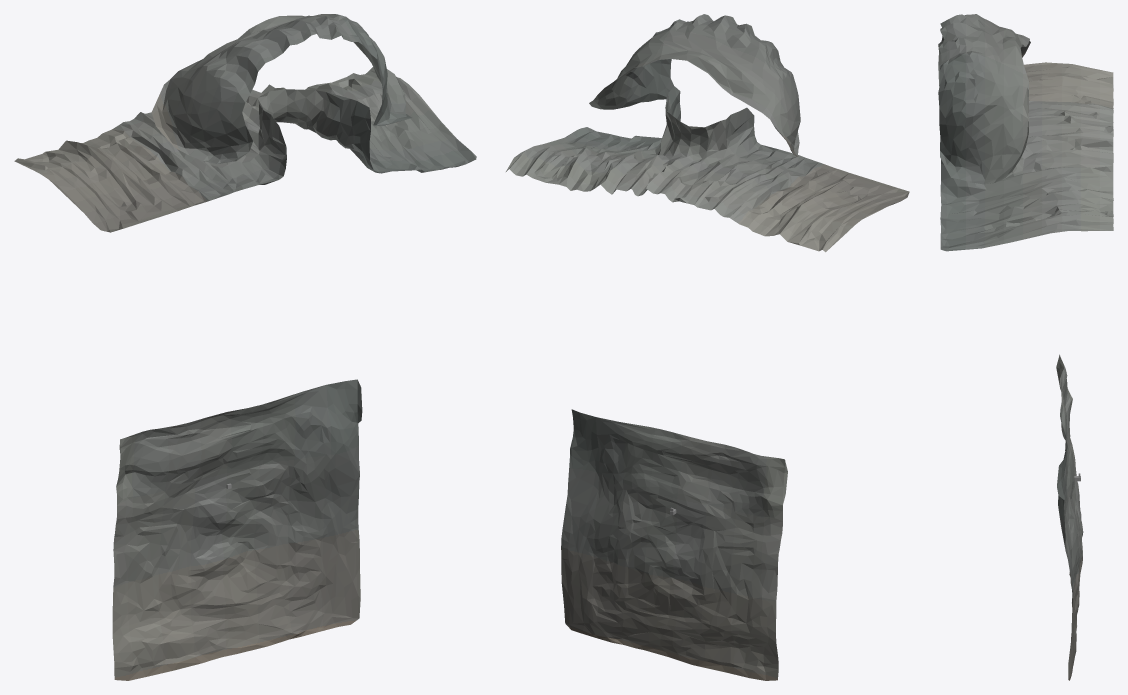
File: Wall.FBX
3 renders of one model, left to right at view 1: azimuth 30°, elevation 25°; view 2: azimuth 150°, elevation 25°; view 3: azimuth 270°, elevation 25°, orthographic. The views are drawn at different scales.
Visible parts, largest first — view 1: Group39197, Group44937; view 2: Group39197, Group44937; view 3: Group44937, Group39197.
Part boxes in pixels (<box>): Group39197: <box>112,379,362,680</box>; Group44937: <box>14,14,476,232</box>; Group39197: <box>561,409,787,680</box>; Group44937: <box>506,14,909,252</box>; Group44937: <box>938,14,1113,251</box>; Group39197: <box>1056,354,1083,680</box>.
Bounding box in the file's own units: 9947 × 4496 × 17326.
